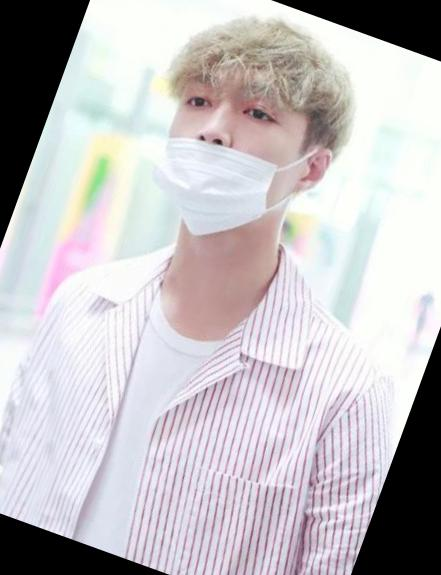mask_weared_incorrect: (132, 72, 315, 264)
